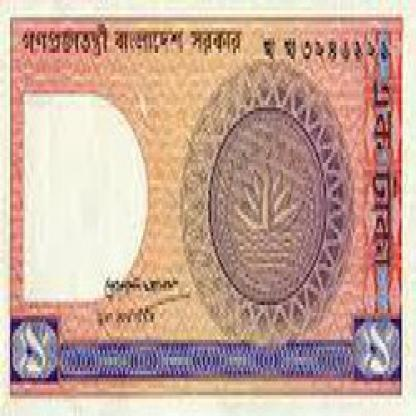One Taka: (369, 76, 401, 274), (12, 319, 58, 381), (354, 322, 400, 382)
